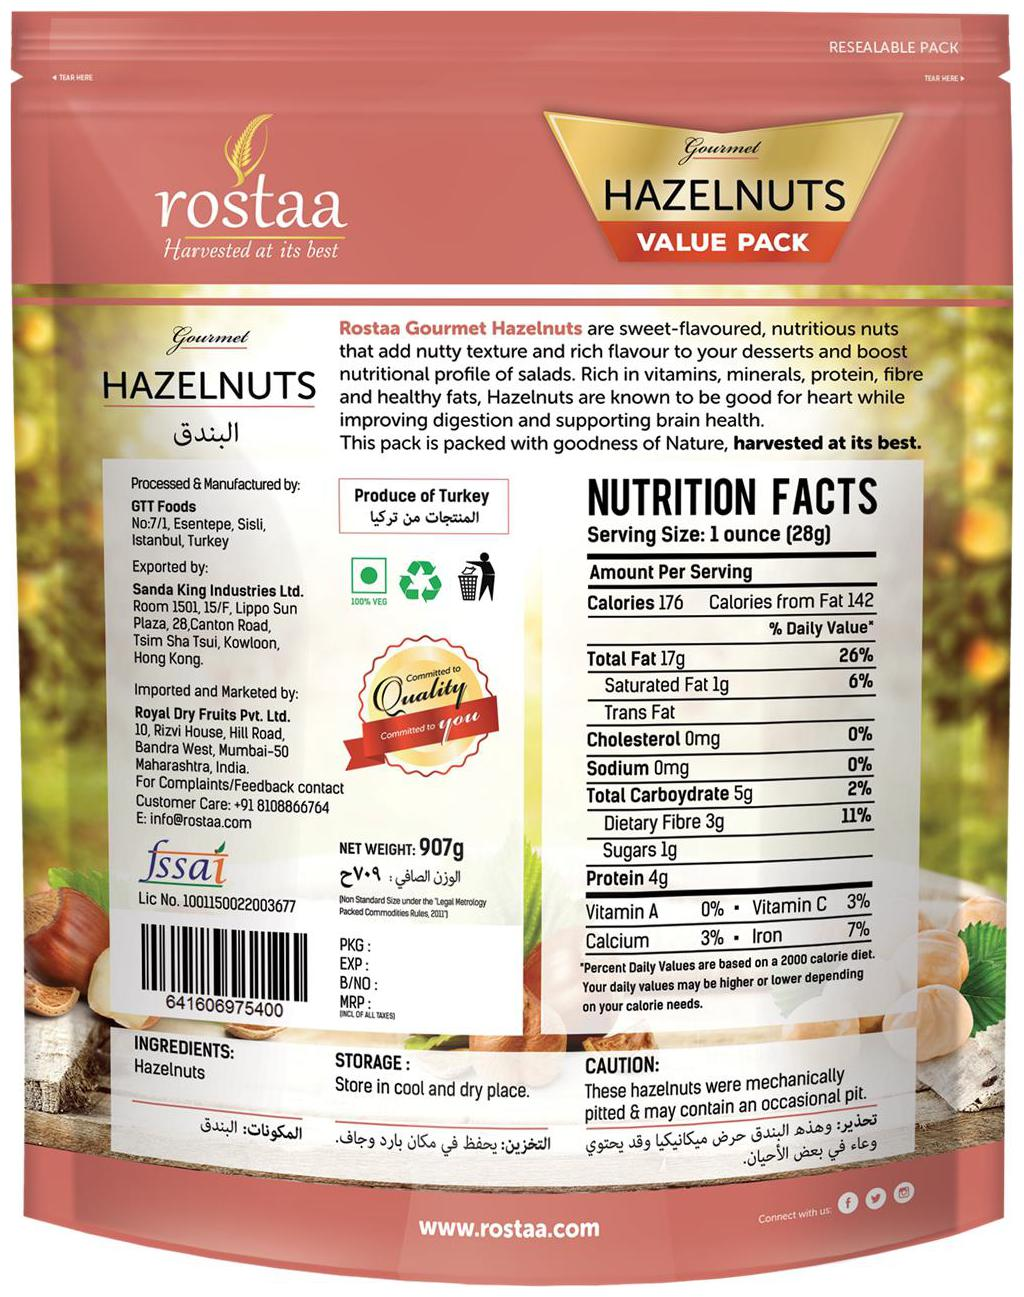fssai: (137, 835, 237, 886)
